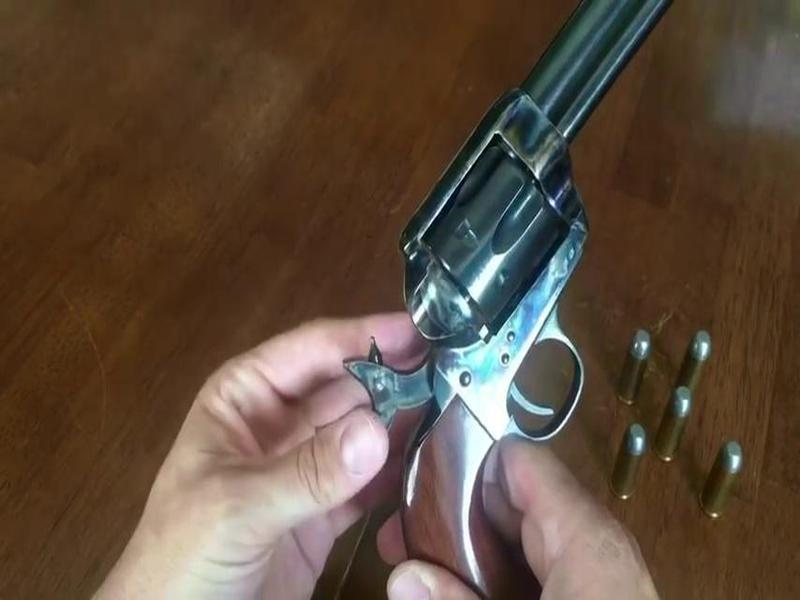Revolver: (373, 12, 680, 534)
